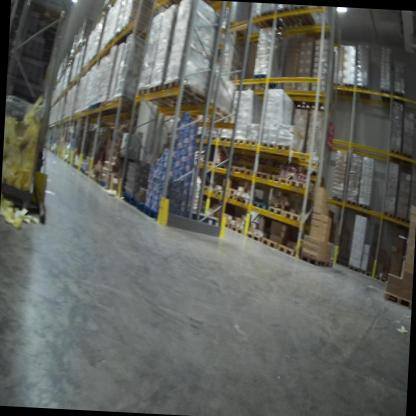pallet: (162, 78, 207, 112), (148, 82, 190, 114), (139, 83, 175, 112), (380, 284, 411, 310), (273, 7, 303, 31), (250, 71, 281, 93), (262, 7, 288, 33), (291, 5, 319, 26), (298, 252, 324, 268), (340, 80, 358, 102), (282, 210, 307, 225), (356, 82, 374, 100), (275, 242, 296, 257), (276, 142, 300, 155), (264, 204, 285, 218), (237, 164, 258, 177), (259, 236, 277, 251), (289, 177, 310, 188), (267, 197, 284, 210), (234, 196, 251, 209), (247, 229, 262, 243), (228, 225, 245, 237), (260, 140, 278, 151), (277, 173, 291, 187), (223, 161, 242, 171), (252, 199, 268, 210), (389, 145, 402, 158), (231, 135, 245, 147), (252, 168, 266, 180), (383, 208, 396, 220), (357, 201, 371, 212), (244, 138, 259, 148), (344, 197, 358, 207), (266, 173, 279, 183), (324, 258, 336, 268), (225, 183, 237, 192), (224, 190, 234, 200), (332, 194, 343, 203)
